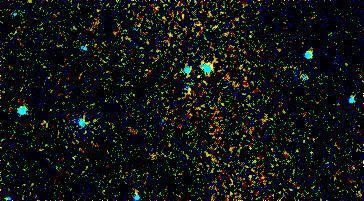star: (32, 112, 62, 142)
